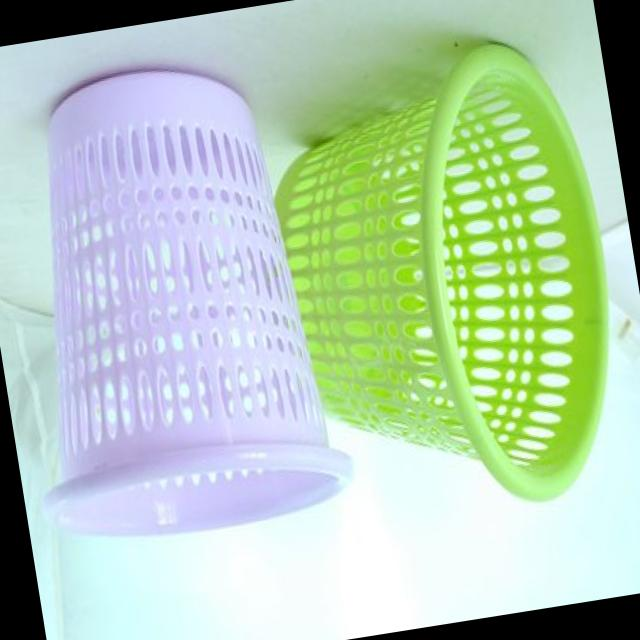dustbin: (251, 26, 640, 542), (0, 36, 365, 559)
